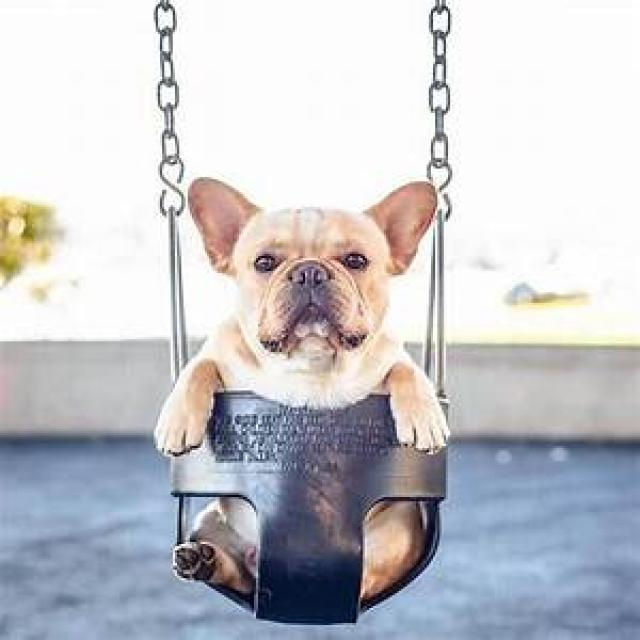KOPEK: (160, 174, 442, 624)
